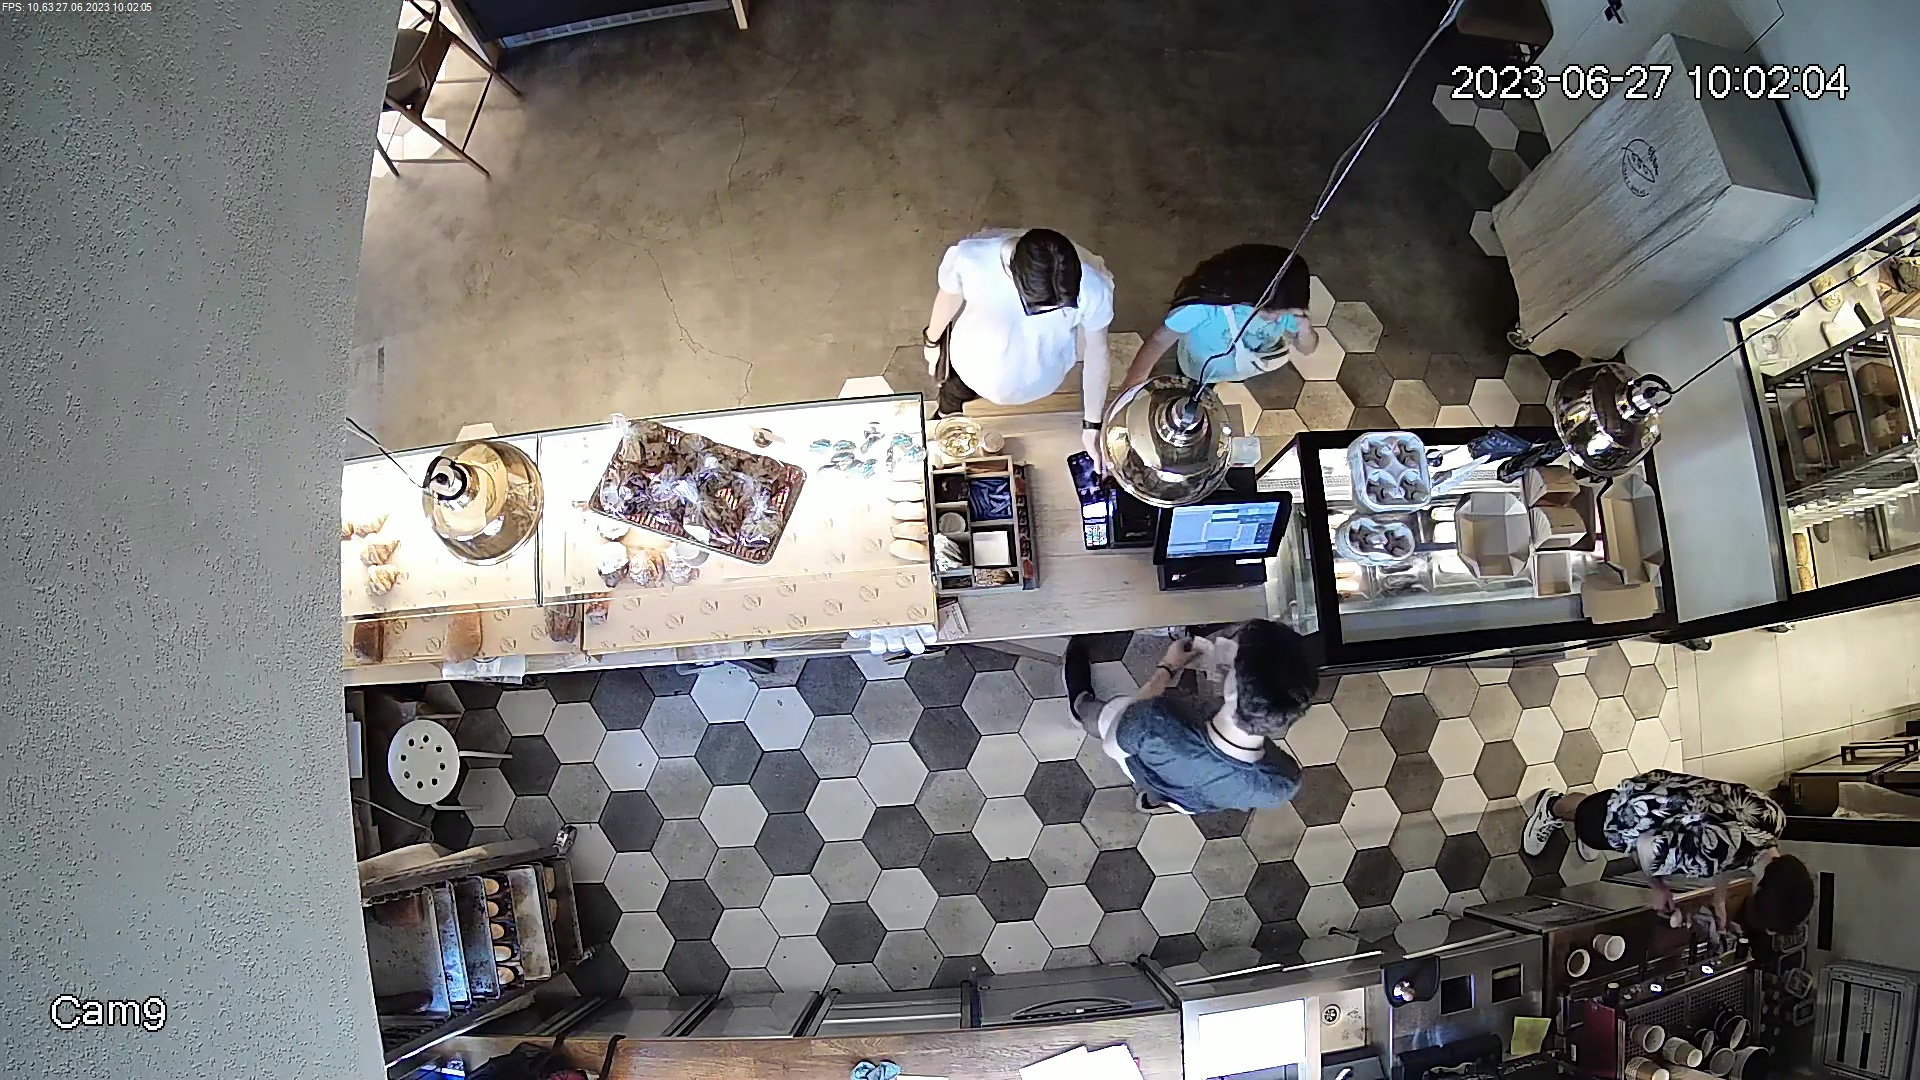person: (1095, 611, 1363, 836), (1532, 737, 1827, 935), (1113, 218, 1322, 407)
terminal: (1065, 443, 1114, 552)
